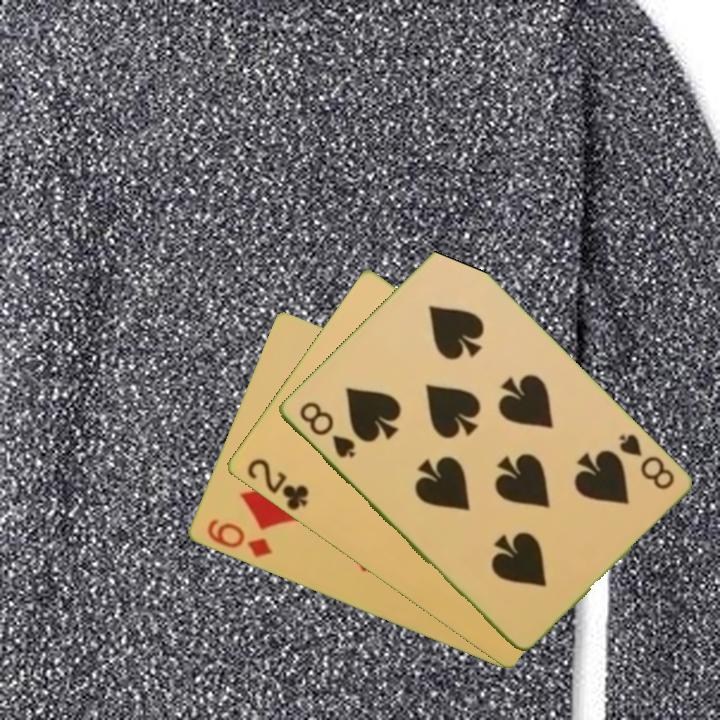2c: (242, 454, 312, 514)
6d: (202, 516, 275, 561)
8s: (295, 398, 358, 461), (614, 430, 677, 493)
